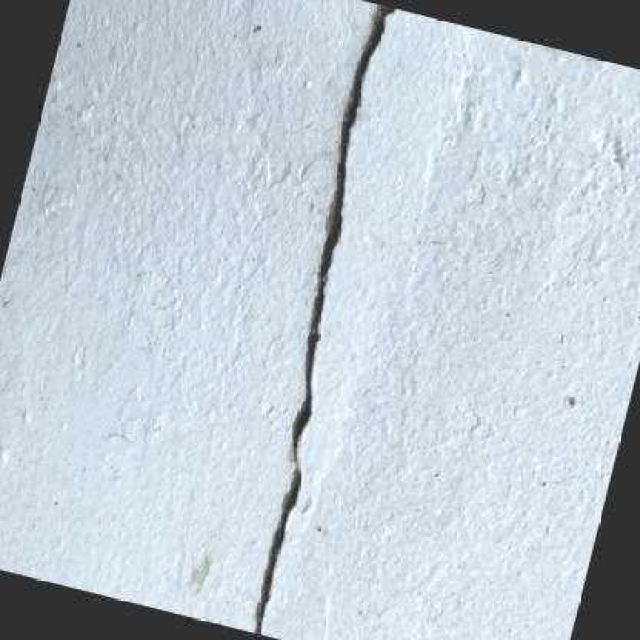D00: (252, 4, 396, 635)
